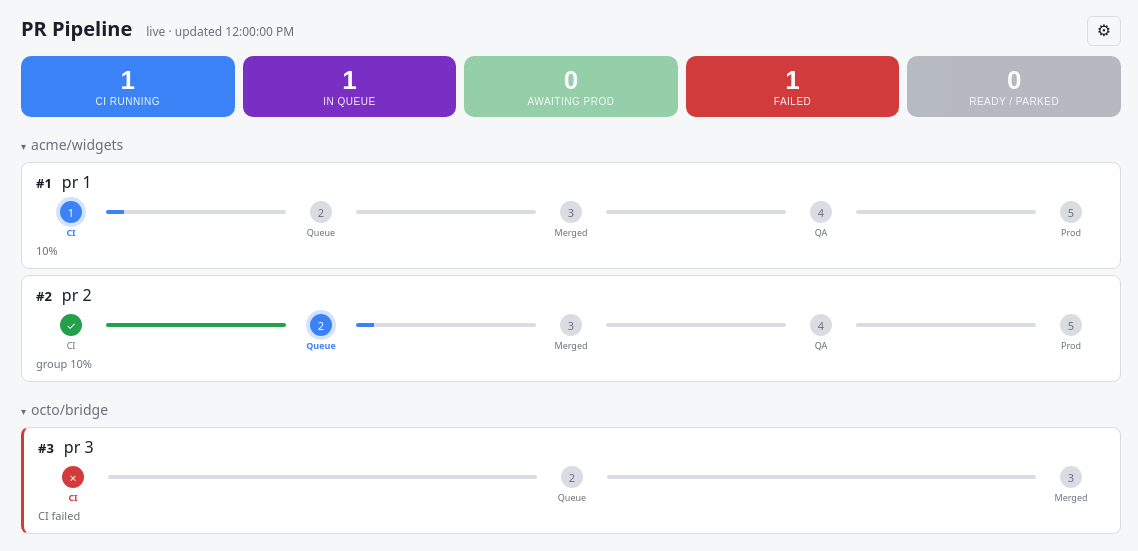
Test: Repo expand/collapse › filter-hidden count is computed on ALL prs regardless of collapsed state
This screenshot has width=1138, height=551.
// Collapse acme/widgets
Click the button "▾ acme/widgets": (77, 145) [21,135,1121,154]
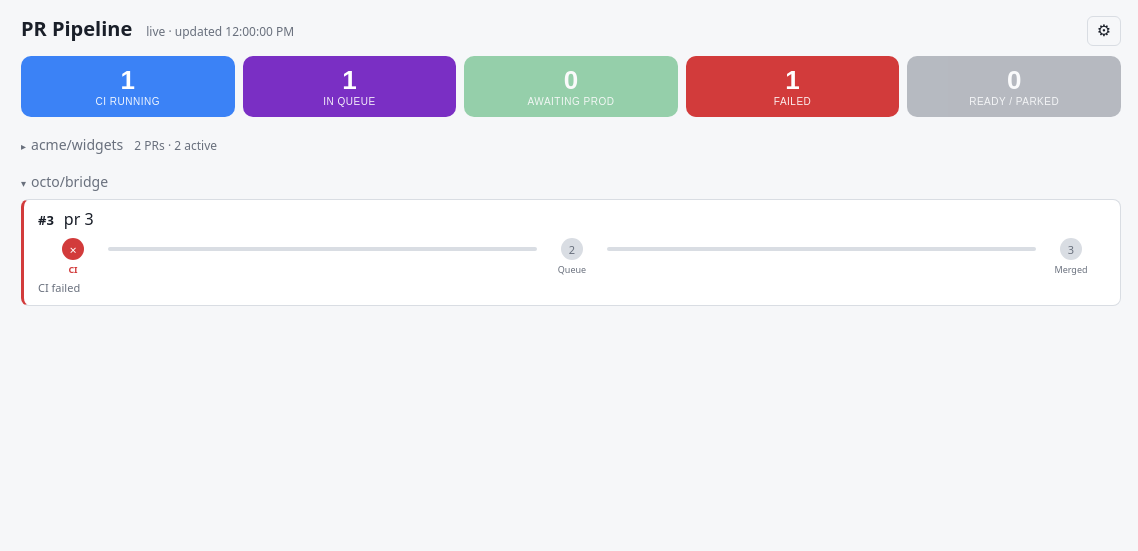
// Now apply a filter: click "running" tile (ci bucket)
Click the button "1 CI running": (128, 87) [21,56,235,117]
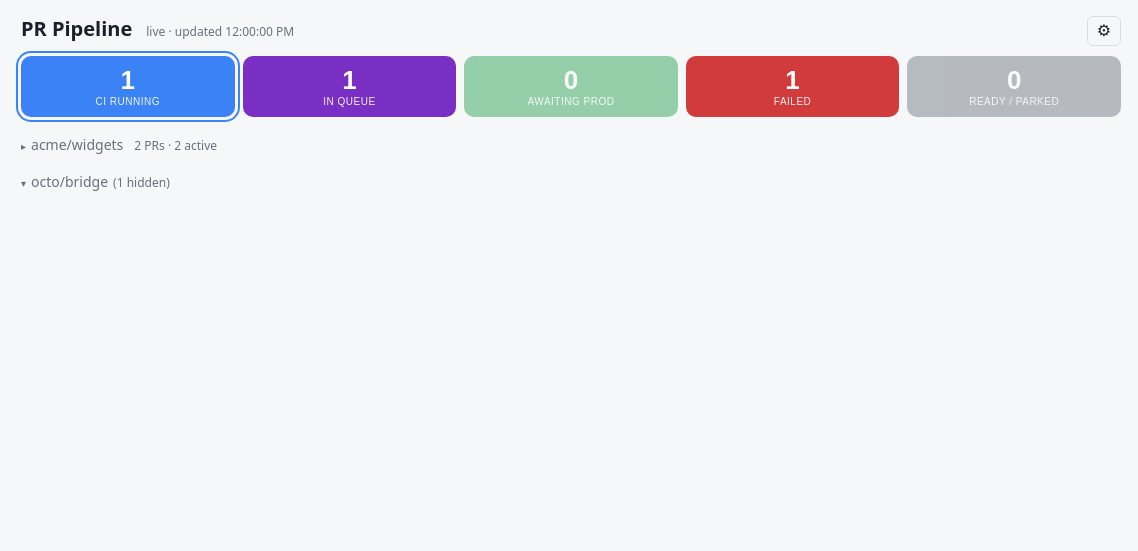
Now the text "(1 hidden)" is shown, box [113,174,170,191]
